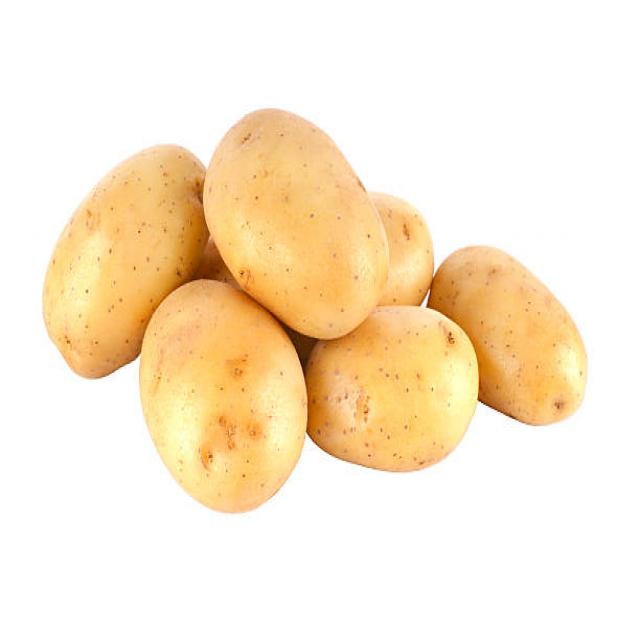Potato: (205, 100, 389, 326), (137, 290, 292, 513), (38, 139, 144, 387), (311, 312, 463, 474), (470, 239, 590, 429)
